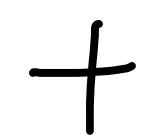plus: (30, 19, 136, 135)
